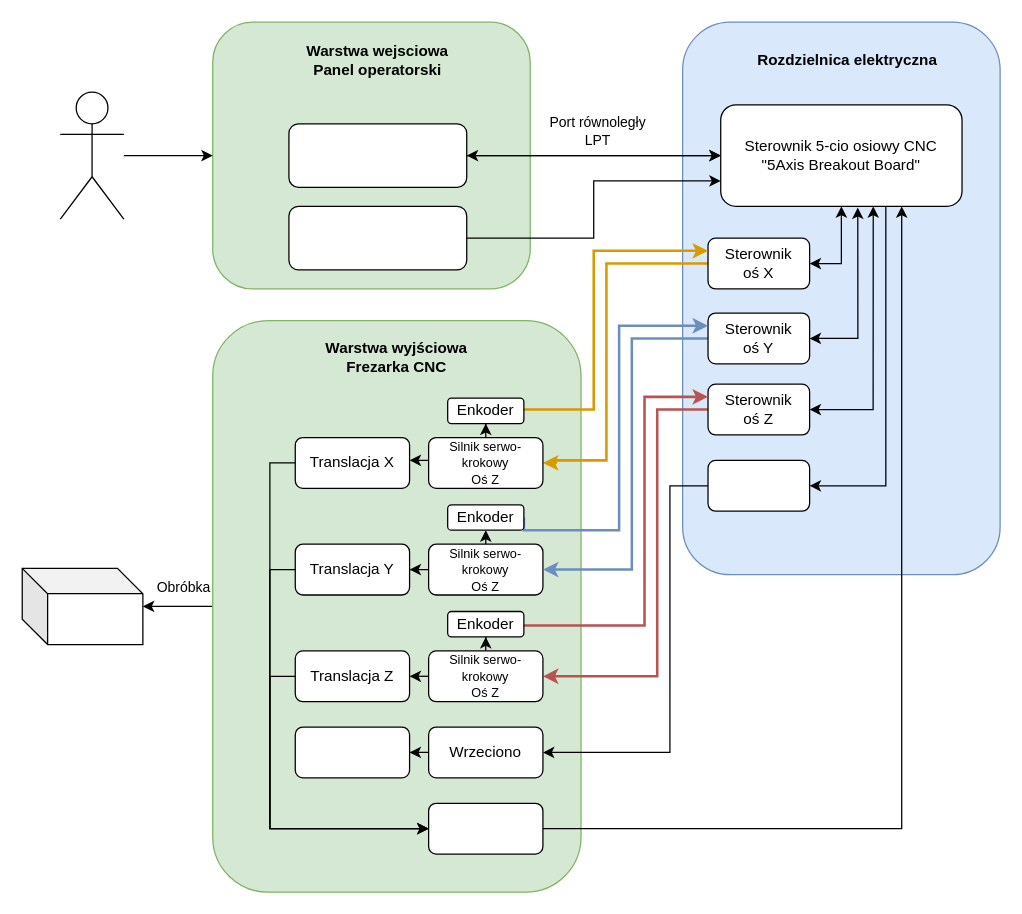
Image size: 1022x914. Some labels were removed from this diagram. The shapes that lost their labels are listed below. From the top down, each one's centre as x and y in pixels, then its label:
At point (91, 155): "Operator".
At point (377, 155): "Komputer stacjonarny, Windows7x32bit".
At point (377, 237): "Przycisk awaryjnego zatrzymania e-stop".
At point (758, 485): "Przemiennik częstotliwości".
At point (82, 606): "Materiał".
At point (352, 752): "Obrót freza".
At point (485, 828): "Czujniki krańcowe".
